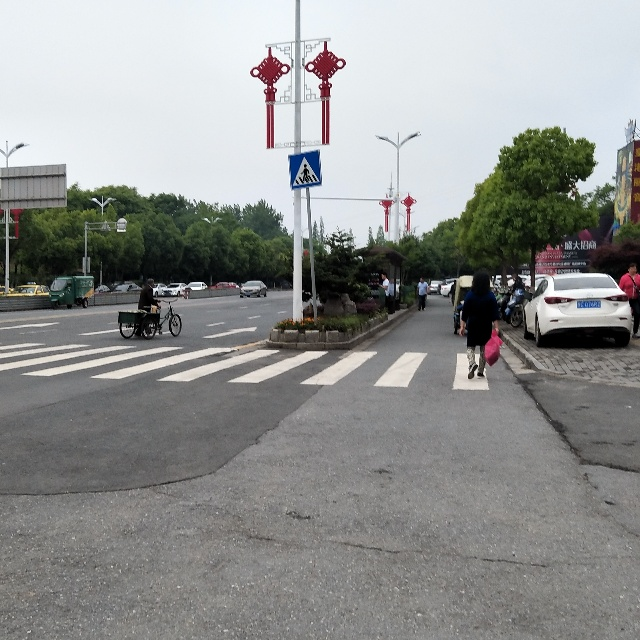crosswalk: (288, 155, 321, 186)
